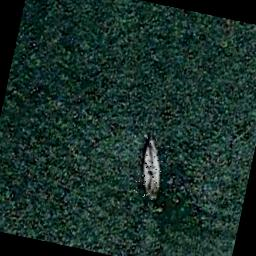boat: (132, 136, 170, 200)
